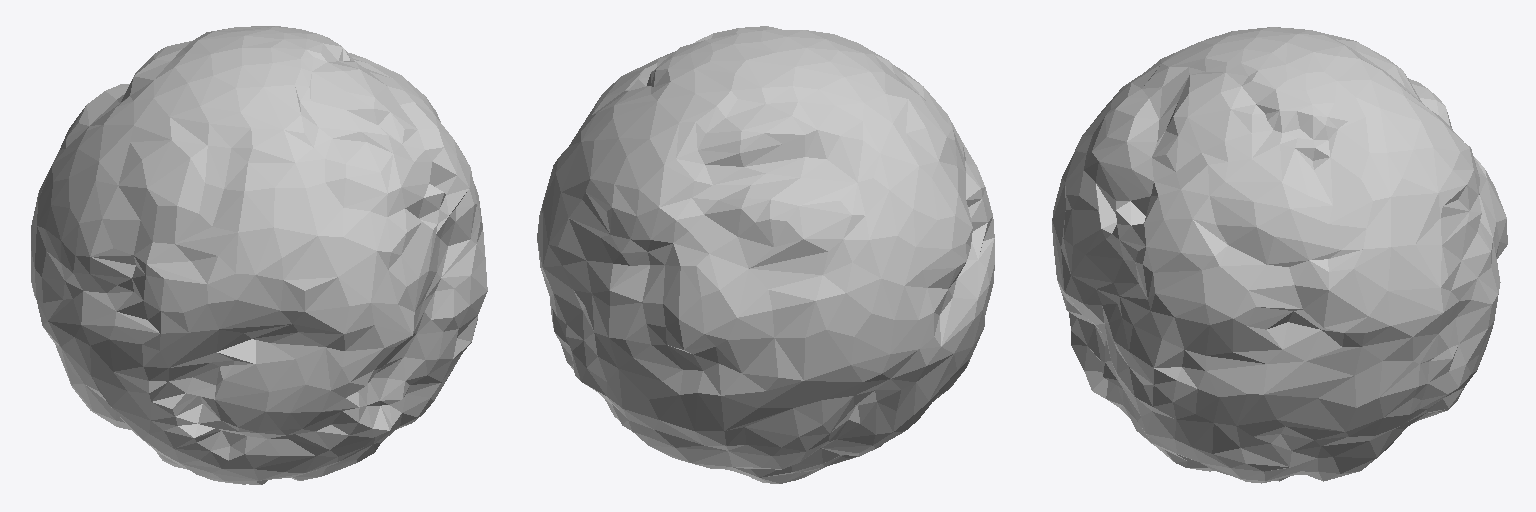
File: BlaloOrb.obj
3 renders of one model, left to right at view 1: azimuth 30°, elevation 25°; view 2: azimuth 150°, elevation 25°; view 3: azimuth 270°, elevation 25°, orthographic.
Visible parts, largest first — view 1: coso_mollo.003_Sphere.009; view 2: coso_mollo.003_Sphere.009; view 3: coso_mollo.003_Sphere.009.
Part boxes in pixels (left/top/right/bottom): coso_mollo.003_Sphere.009: left=31, top=26, right=487, bottom=484; coso_mollo.003_Sphere.009: left=537, top=26, right=994, bottom=483; coso_mollo.003_Sphere.009: left=1052, top=27, right=1507, bottom=483.
Size of the model in its own units: 4.34 by 4.46 by 4.41.